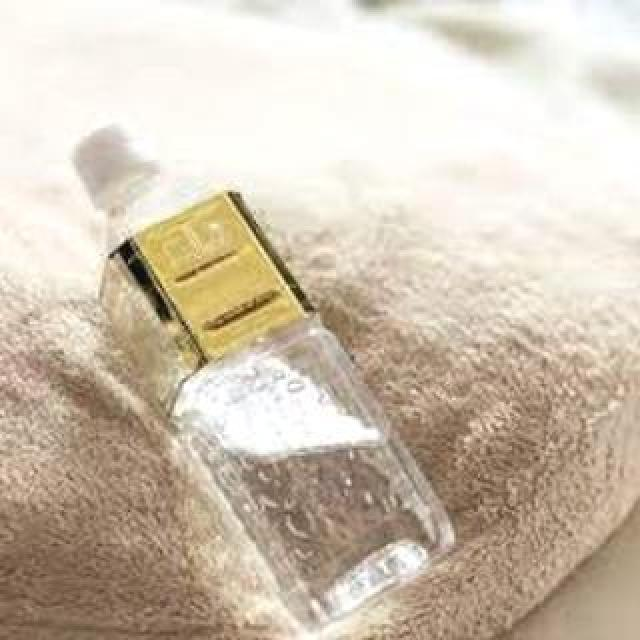Pet_Bottle: (70, 111, 456, 635)
